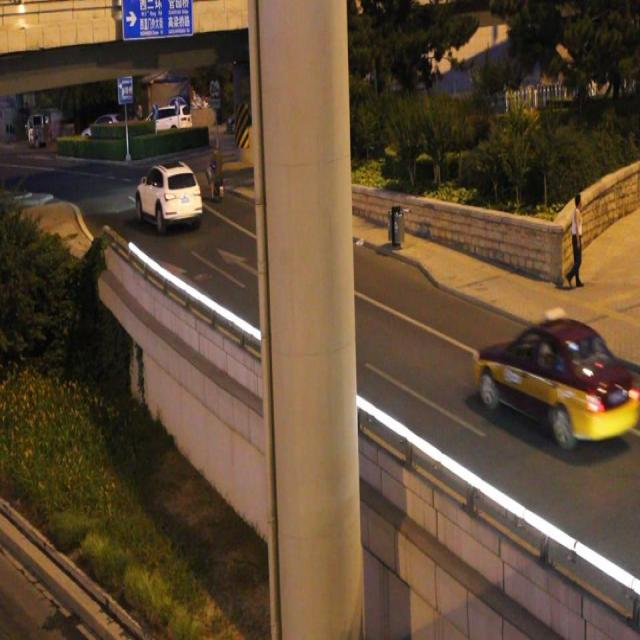car: (473, 307, 628, 447), (134, 160, 202, 230)
